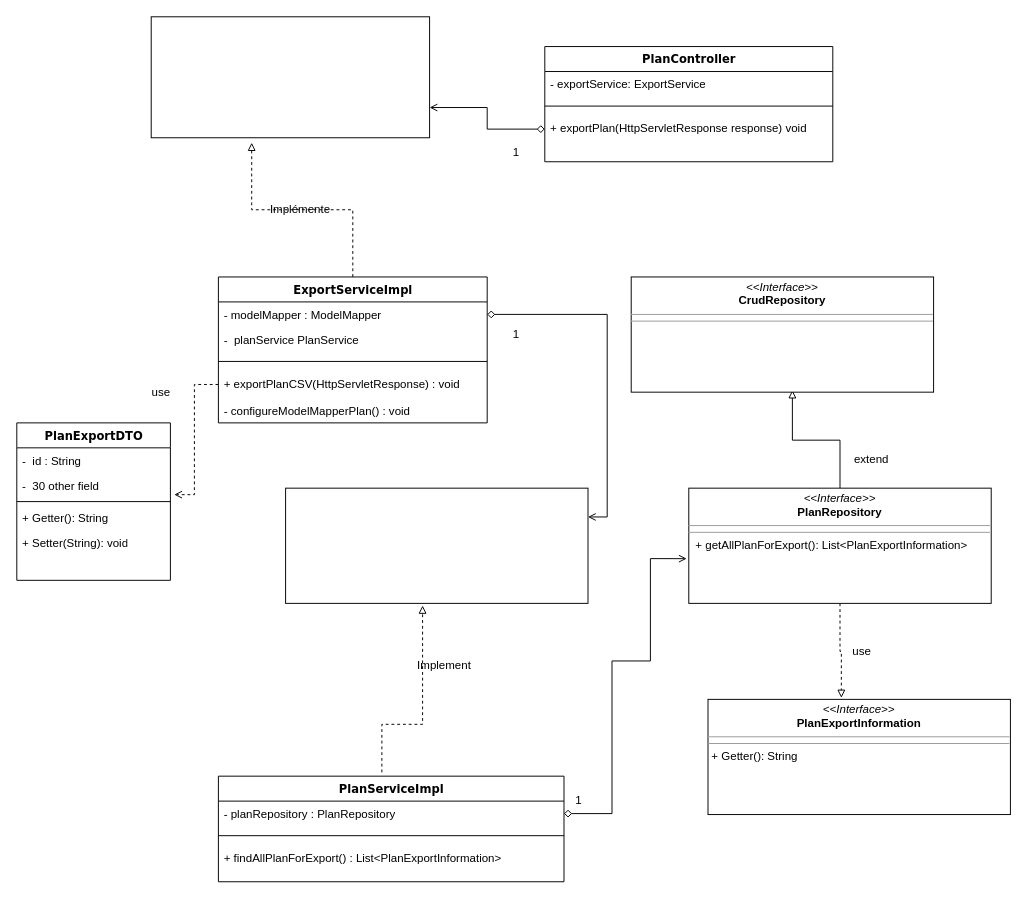
The diagram is 1027 pixels wide and 899 high, and some of its shapes have lost their labels. Each missing label, with the centre of its shape:
"<<Interface>> ExportService + exportPlanCSV(HttpServletResponse) : void" belongs at pixel 290 77.
"<<Interface>> PlanService + findAllPlanForExport() : List<PlanExportInformation>" belongs at pixel 436 545.
